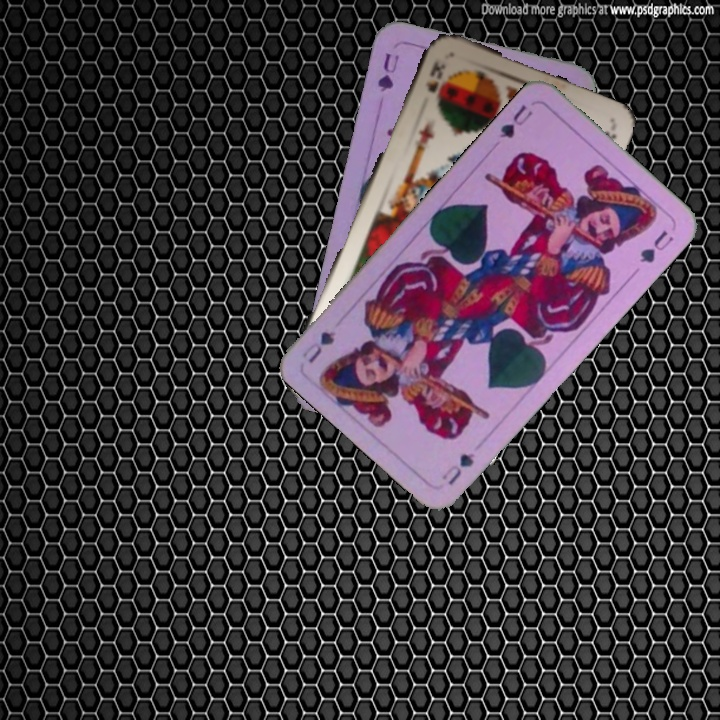GU: (495, 100, 535, 141), (437, 448, 478, 488), (373, 49, 402, 95)
SK: (421, 56, 449, 95)
